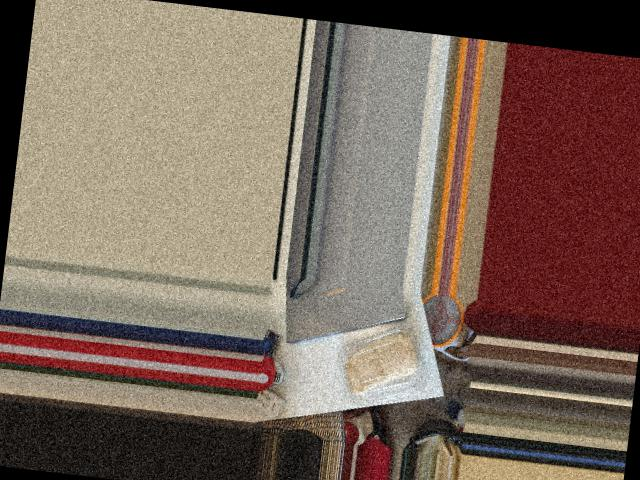cheese: (329, 317, 439, 412)
